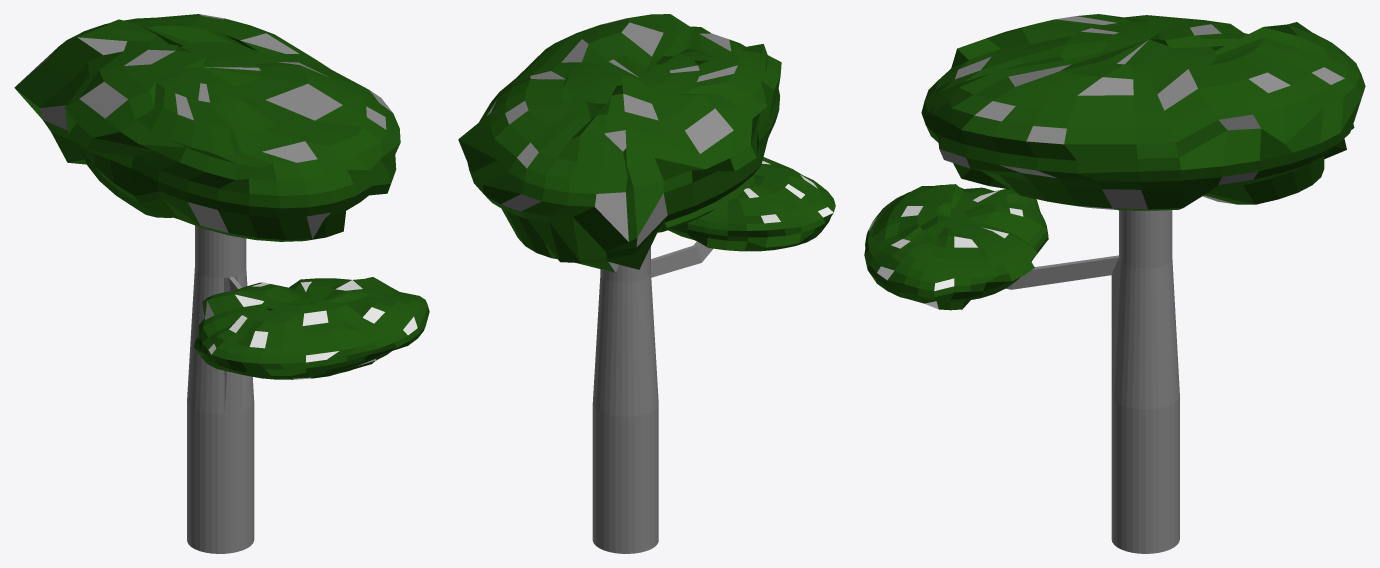
File: houba_green.fbx
3 renders of one model, left to right at view 1: azimuth 30°, elevation 25°; view 2: azimuth 150°, elevation 25°; view 3: azimuth 270°, elevation 25°, orthographic. The views are drawn at different scales.
Parts seen in each view (by area): view 1: Sphere, Sphere.001, Cylinder; view 2: Sphere, Cylinder, Sphere.001; view 3: Sphere, Cylinder, Sphere.001.
Part boxes in pixels (x1,y1,x2,y2): Sphere: (14,14,400,241); Sphere.001: (194,277,429,379); Cylinder: (187,225,254,553); Sphere: (458,14,781,272); Cylinder: (592,241,713,553); Sphere.001: (668,157,835,251); Sphere: (921,14,1365,210); Cylinder: (1006,210,1179,553); Sphere.001: (864,184,1048,310).
Size of the model in its own units: 1163 by 2063 by 1882.
